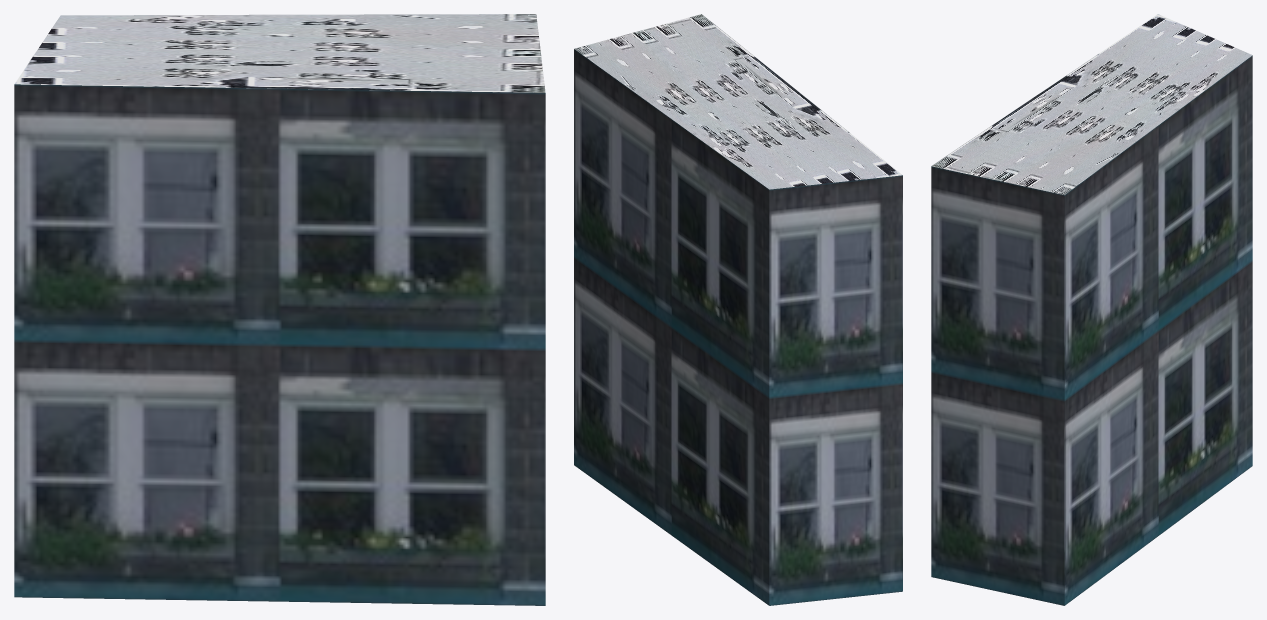
The model's file is ResTex__5196.fbx.
3 views of the same model, side by side, from view 1: azimuth 30°, elevation 25°; view 2: azimuth 150°, elevation 25°; view 3: azimuth 270°, elevation 25° (orthographic). The views are drawn at different scales.
Parts seen in each view (by area): view 1: CityEngineMaterial_11_m, CityEngineMaterial_8_m; view 2: CityEngineMaterial_11_m, CityEngineMaterial_8_m; view 3: CityEngineMaterial_11_m, CityEngineMaterial_8_m.
Boxes of the visible parts, x1=… form: CityEngineMaterial_11_m: x1=14, y1=84, x2=545, y2=605; CityEngineMaterial_8_m: x1=15, y1=14, x2=545, y2=92; CityEngineMaterial_11_m: x1=574, y1=49, x2=902, y2=605; CityEngineMaterial_8_m: x1=574, y1=14, x2=902, y2=189; CityEngineMaterial_11_m: x1=931, y1=55, x2=1252, y2=605; CityEngineMaterial_8_m: x1=931, y1=14, x2=1252, y2=194.
Bounding box in the file's own units: 5.68 × 6 × 4.26.
2 materials, 2 textured.
